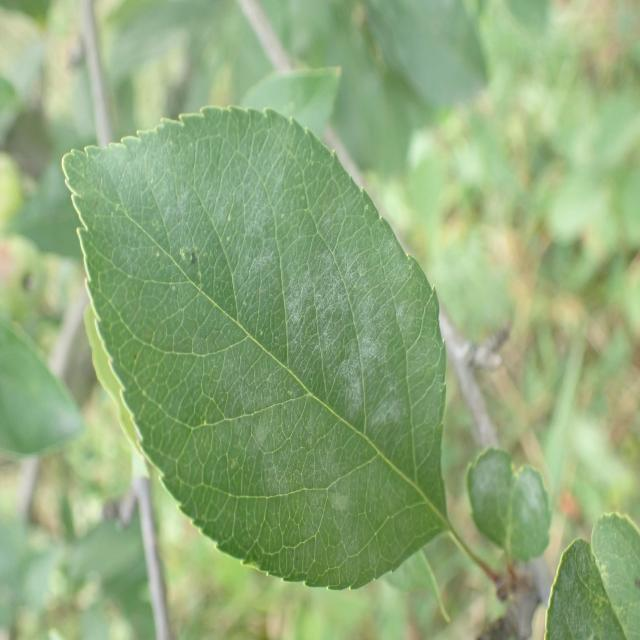Powdery_mildew: (78, 84, 456, 583), (469, 426, 550, 596)
